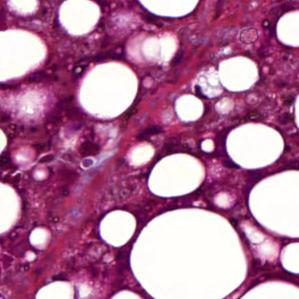steatosis: (74, 61, 143, 119), (228, 122, 286, 170), (148, 152, 207, 199), (97, 207, 137, 246)
